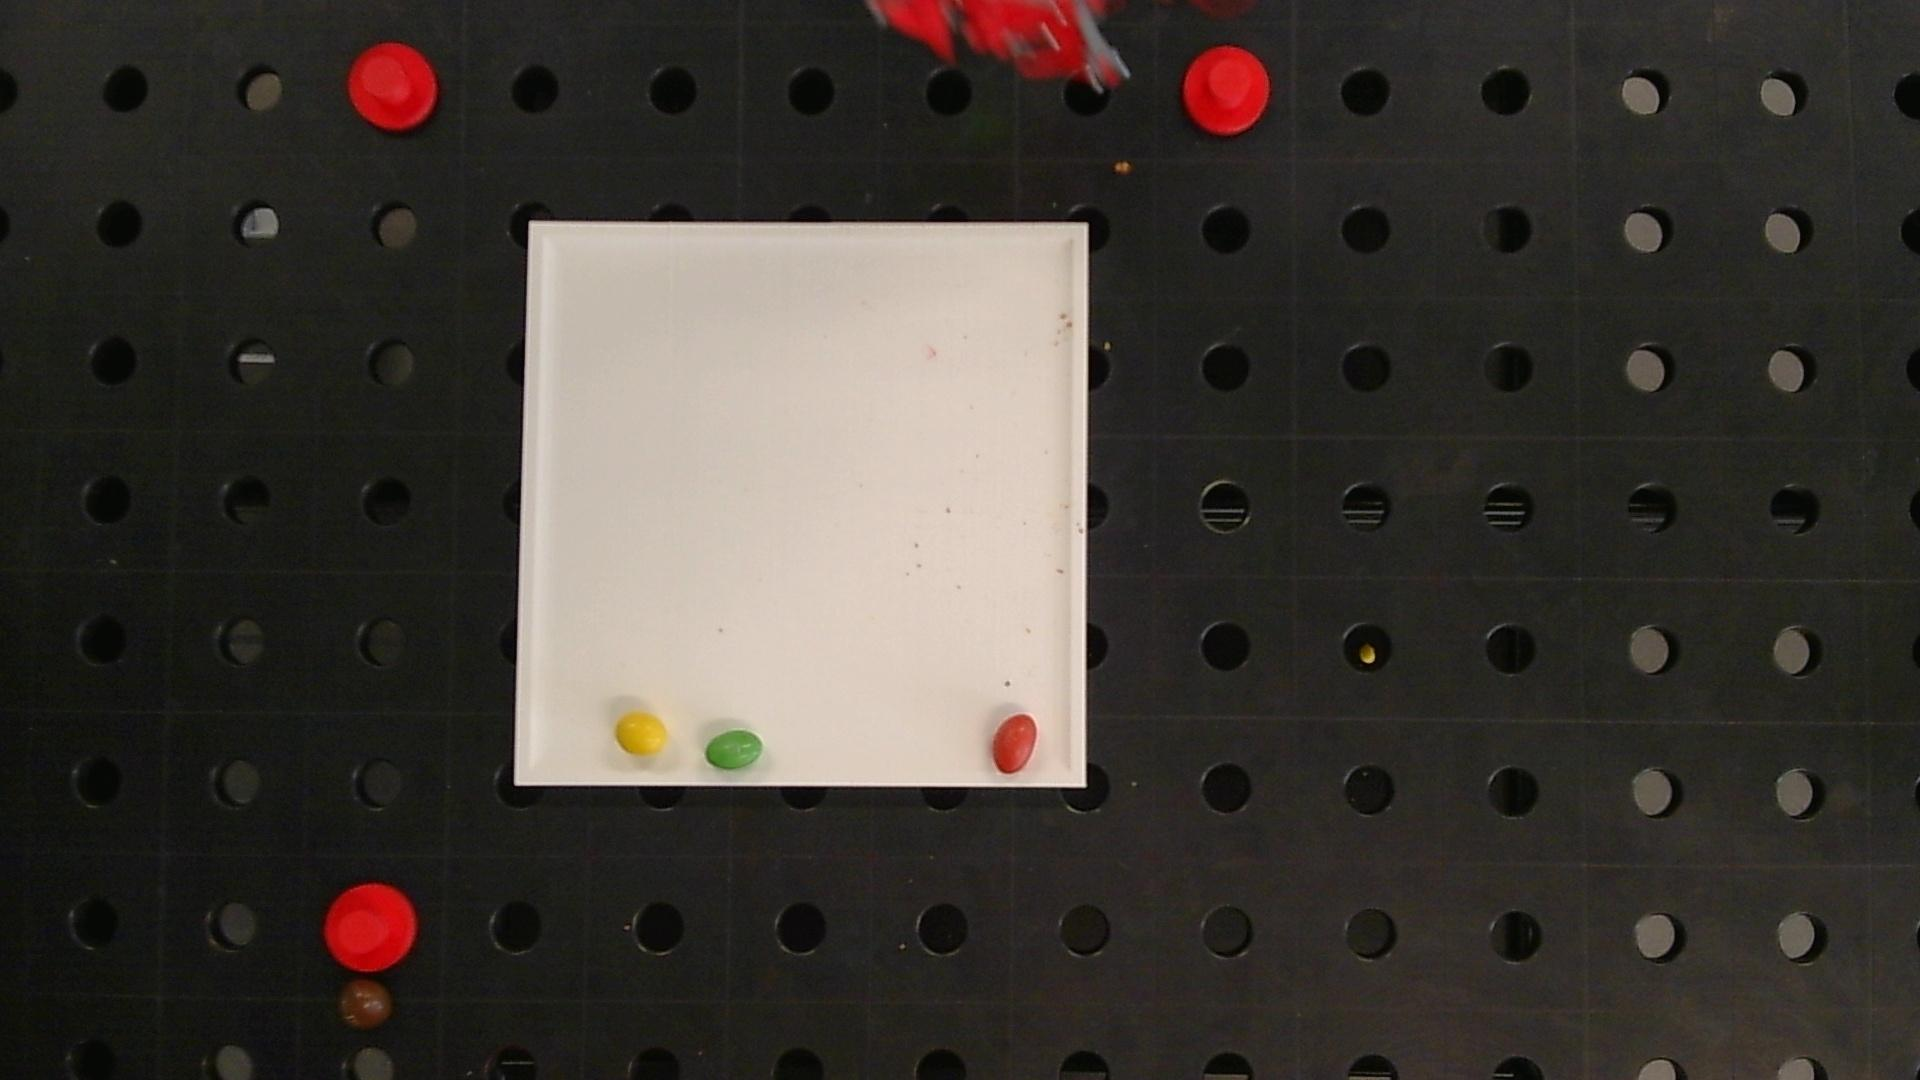green: (704, 731, 764, 769)
red: (992, 713, 1038, 774)
yellow: (615, 712, 667, 754)
